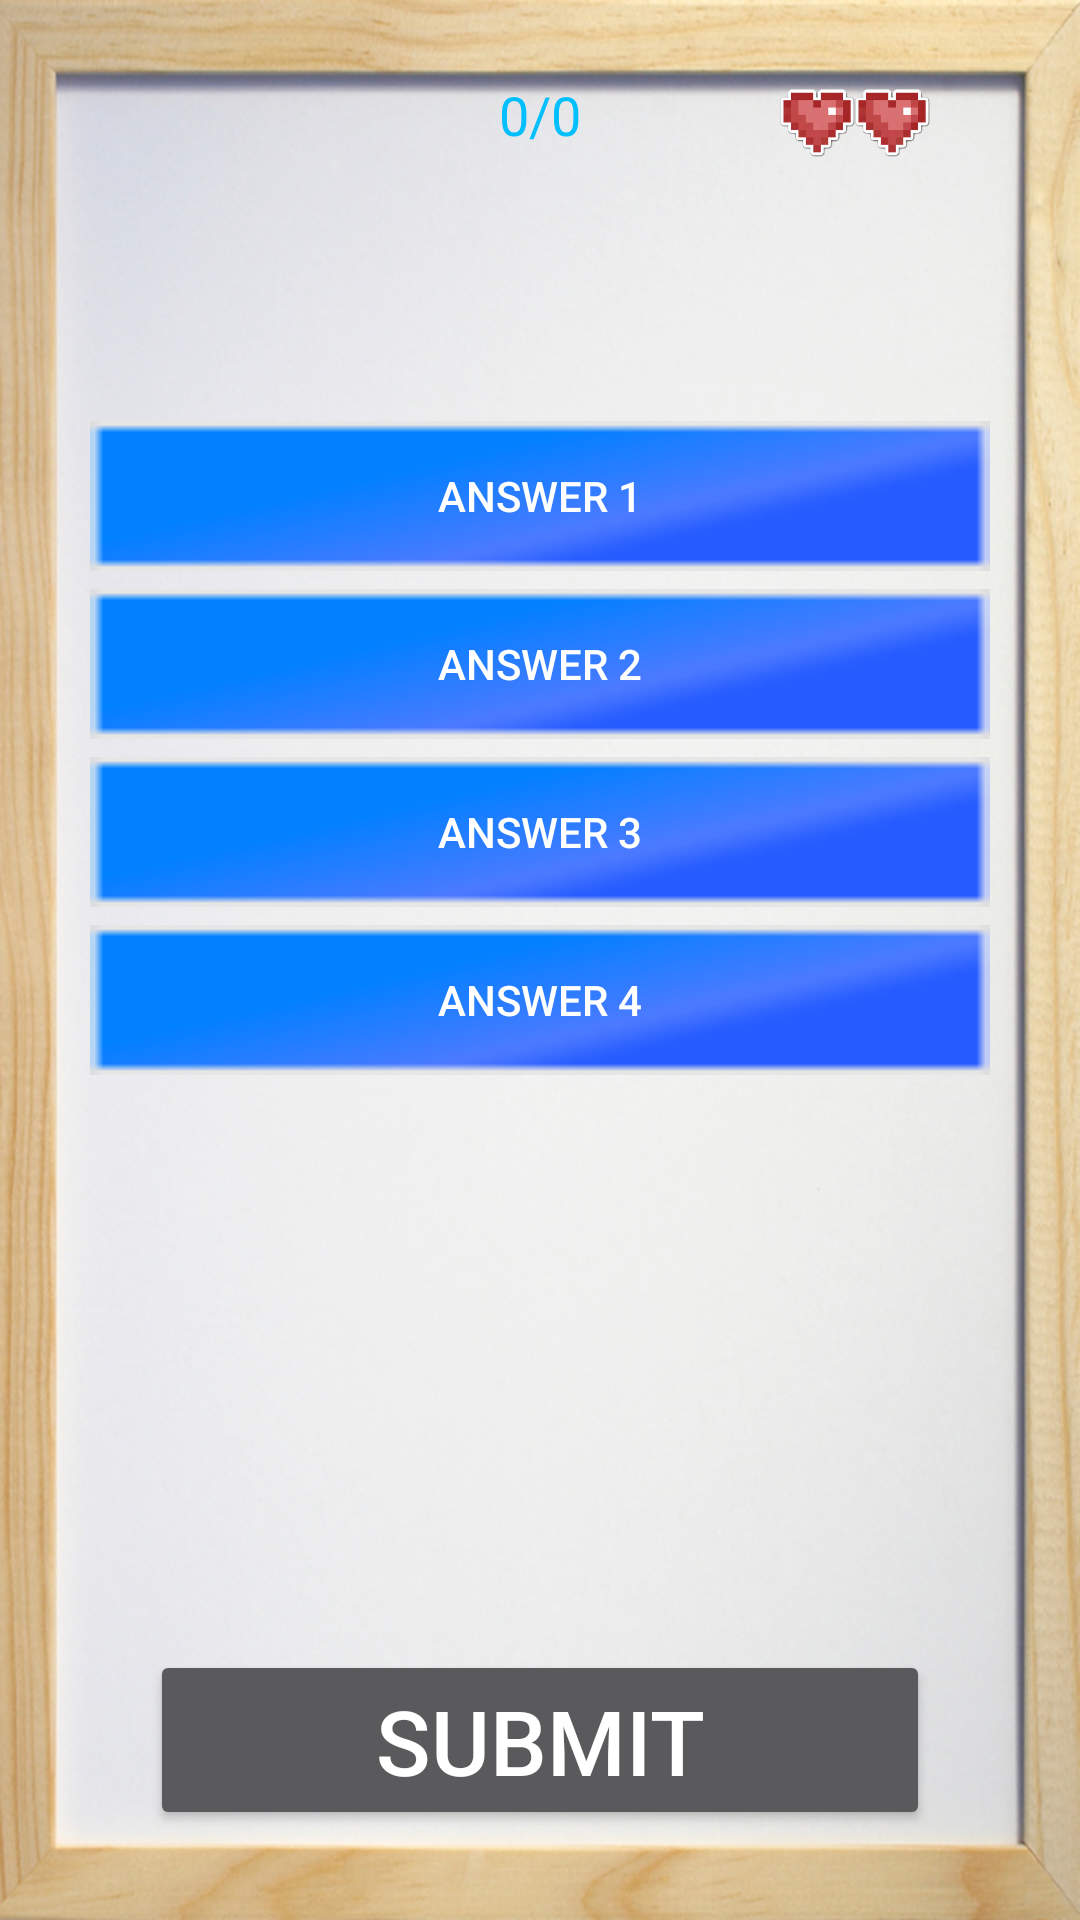

Locate icon controls on the screen. Image size 1080px x 1920px, boxes as [x1=x1, y1=y1, x2=x2, y2=y2].
lives: [x1=780, y1=92, x2=851, y2=153], [x1=858, y1=92, x2=930, y2=157]
